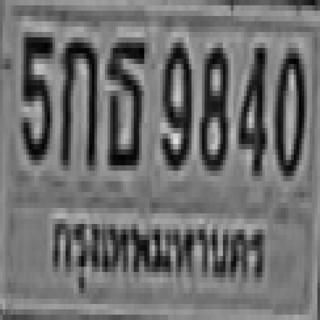A01: (58, 32, 94, 165)
A24: (105, 37, 144, 165)
N00: (273, 40, 304, 173)
N04: (236, 43, 265, 171)
N05: (18, 27, 50, 160)
N08: (197, 43, 226, 165)
N09: (160, 37, 189, 165)
P04: (48, 209, 267, 300)
